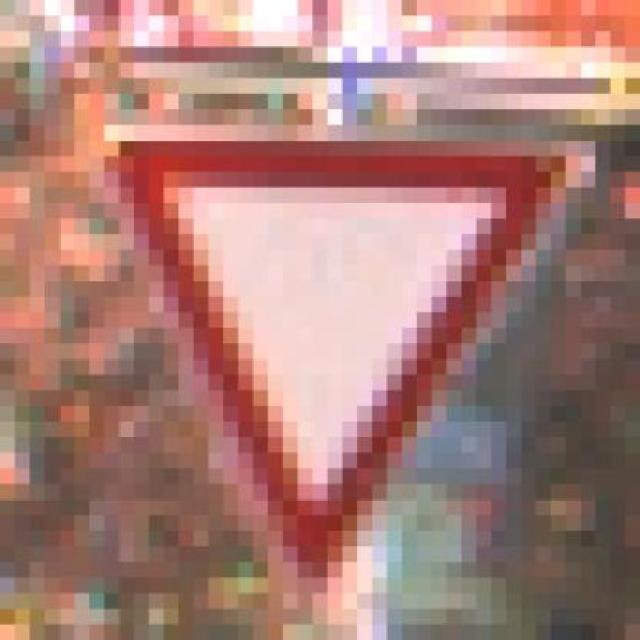Give Way: (89, 110, 580, 608)
